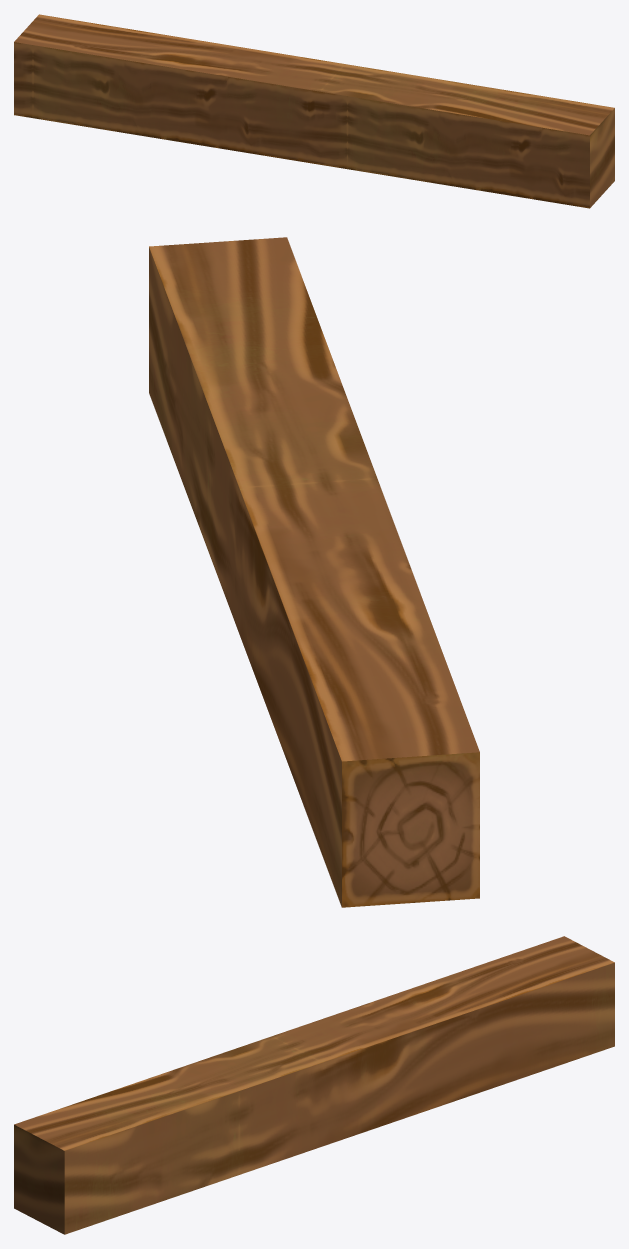
3 renders of one model, top to bottom at view 1: azimuth 30°, elevation 25°; view 2: azimuth 150°, elevation 25°; view 3: azimuth 270°, elevation 25°, orthographic. The views are drawn at different scales.
Parts seen in each view (by area): view 1: Cube.633; view 2: Cube.633; view 3: Cube.633.
Boxes of the visible parts, x1=… form: Cube.633: x1=14, y1=14, x2=614, y2=208; Cube.633: x1=149, y1=237, x2=479, y2=907; Cube.633: x1=14, y1=936, x2=614, y2=1234.
Size of the model in its own units: 450 by 82.07 by 533.
1 material, 1 textured.
